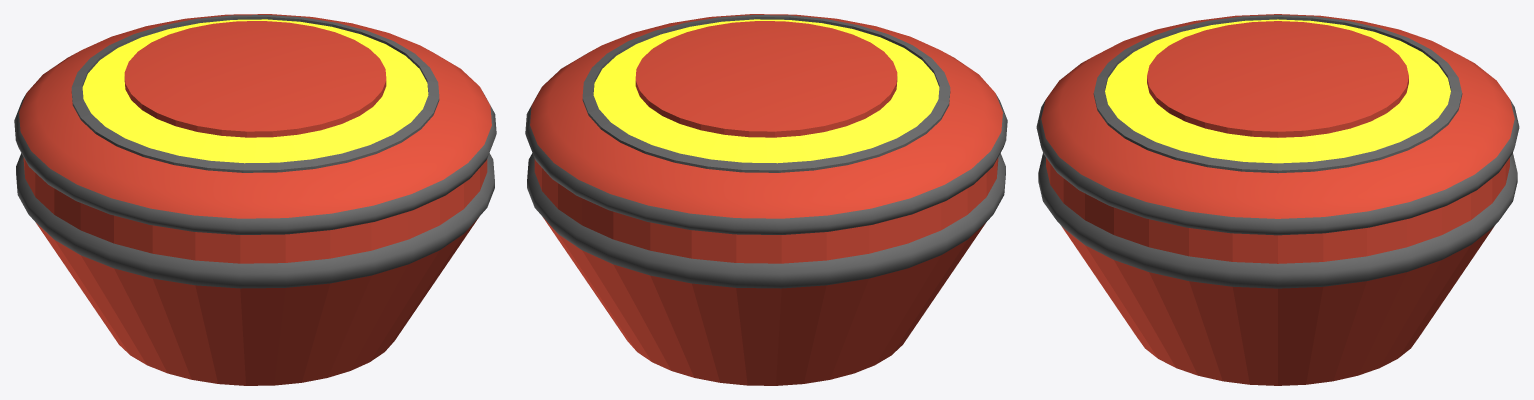
The model's file is Bumper.fbx.
3 views of the same model, side by side, from view 1: azimuth 30°, elevation 25°; view 2: azimuth 150°, elevation 25°; view 3: azimuth 270°, elevation 25° (orthographic).
Parts seen in each view (by area): view 1: Circle; view 2: Circle; view 3: Circle.
Boxes of the visible parts, x1=… form: Circle: x1=14, y1=14, x2=496, y2=385; Circle: x1=525, y1=14, x2=1007, y2=385; Circle: x1=1036, y1=14, x2=1519, y2=385.
Bounding box in the file's own units: 208 × 121 × 208.
